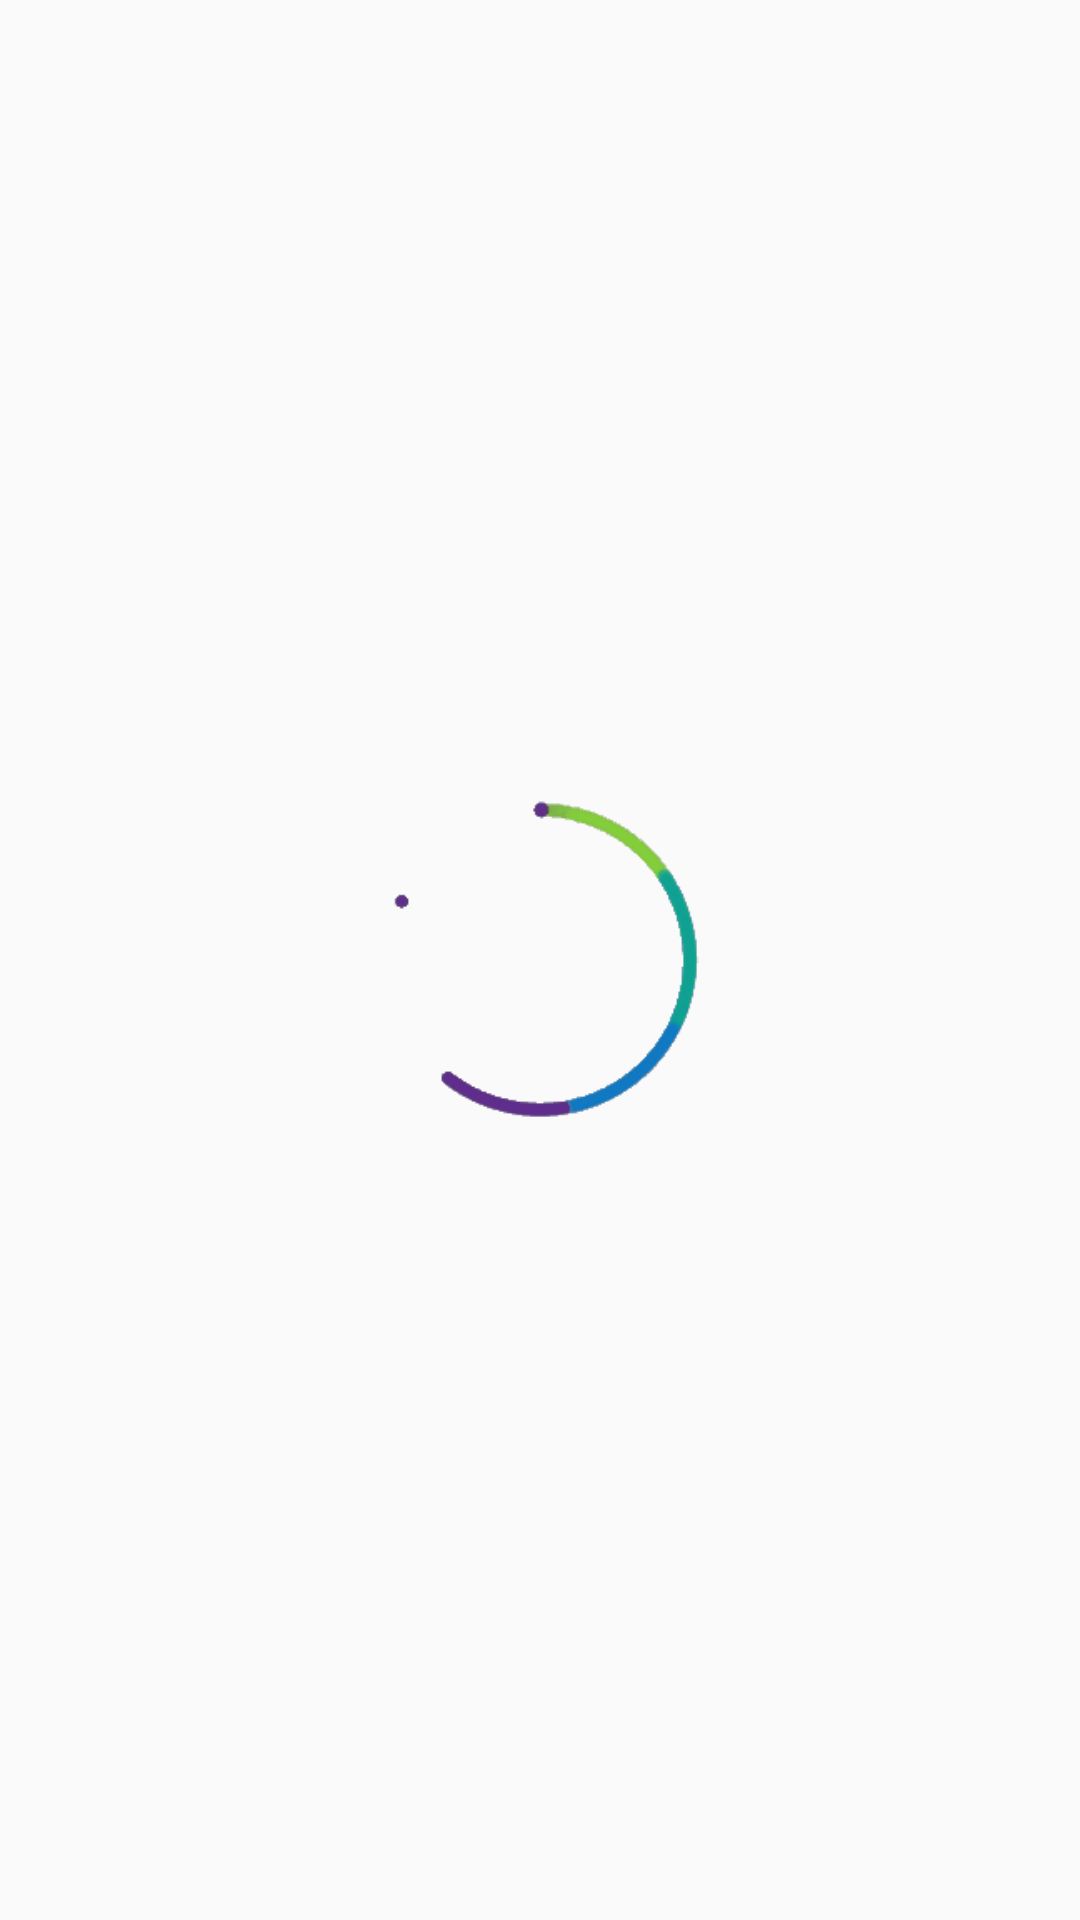

Icons on this 1080x1920 Android screen, each with its box as bbox(x1, y1, x2, y2):
loading animation: bbox(394, 801, 698, 1117)
